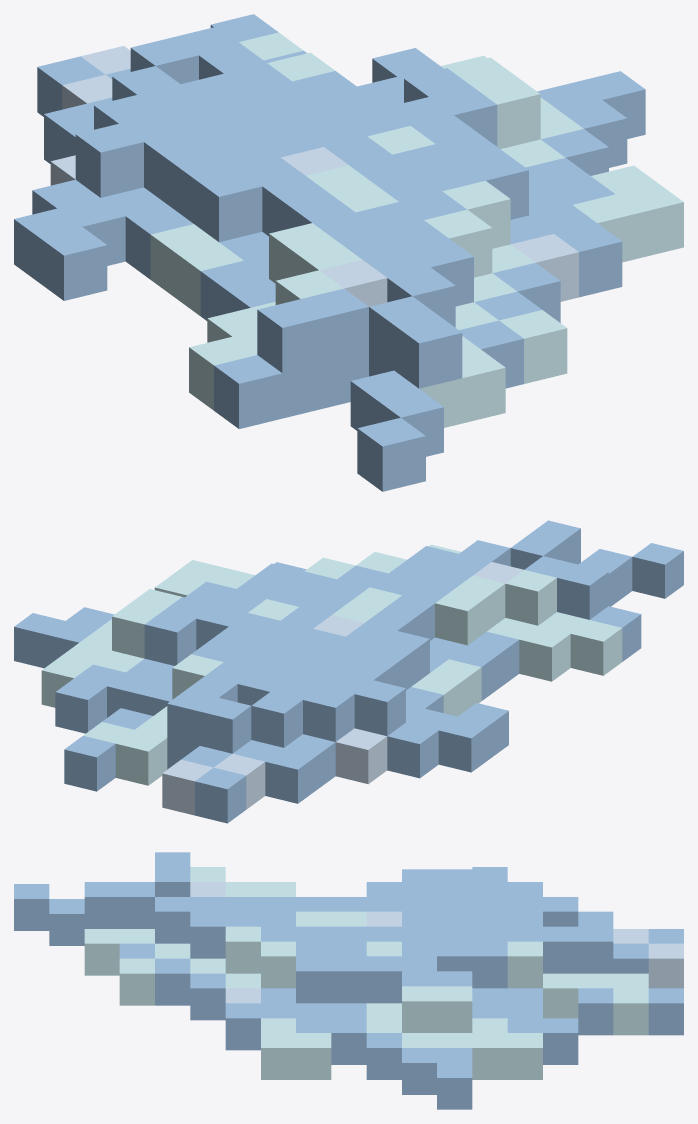
Rendered from grass_patches-1.obj.
3 renders of one model, top to bottom at view 1: azimuth 30°, elevation 25°; view 2: azimuth 150°, elevation 25°; view 3: azimuth 270°, elevation 25°, orthographic. The views are drawn at different scales.
Size of the model in its own units: 1.4 by 0.2 by 1.9.
